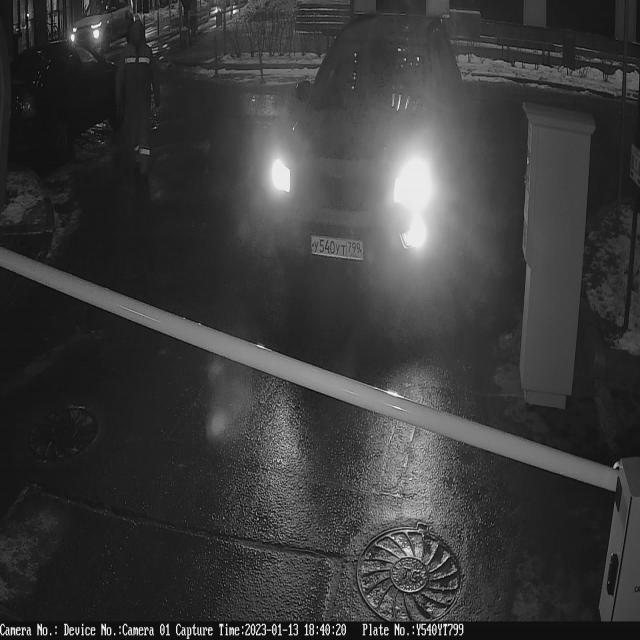car-plate-numbers: (310, 234, 366, 265)
